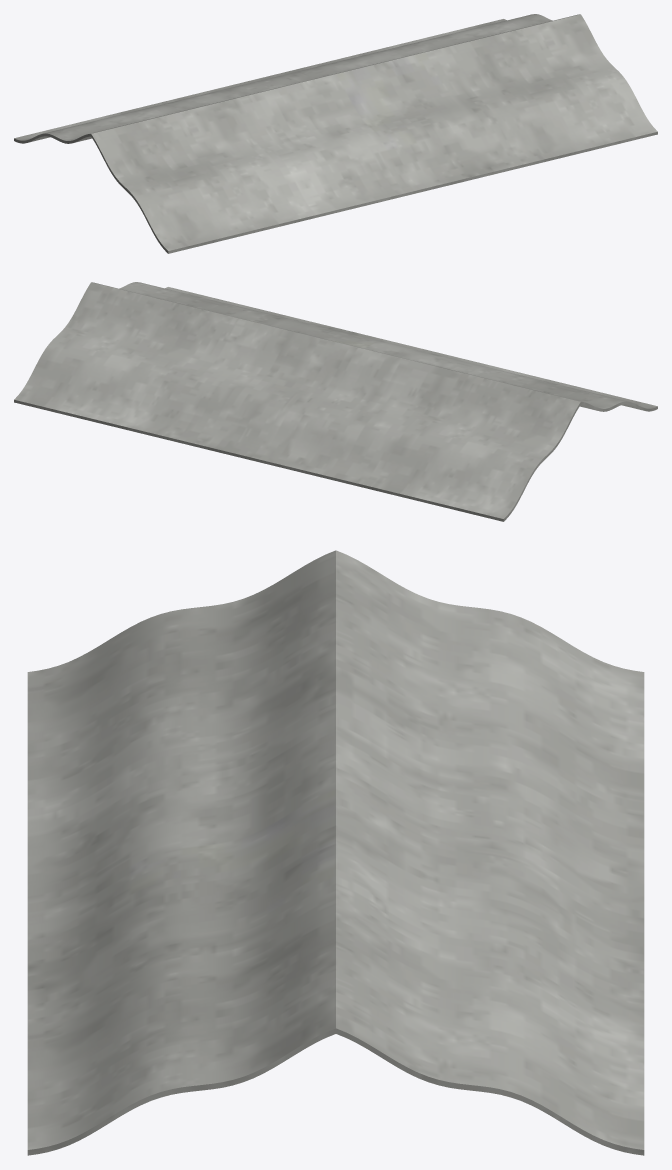
Rendered from COB-CUM-002_lod1.glb.
3 renders of one model, top to bottom at view 1: azimuth 30°, elevation 25°; view 2: azimuth 150°, elevation 25°; view 3: azimuth 270°, elevation 25°, orthographic. The views are drawn at different scales.
Visible parts, largest first — view 1: COB-CUM-002_peca; view 2: COB-CUM-002_peca; view 3: COB-CUM-002_peca.
Part boxes in pixels (bbox=[...]): COB-CUM-002_peca: bbox=[14, 14, 657, 253]; COB-CUM-002_peca: bbox=[14, 282, 657, 521]; COB-CUM-002_peca: bbox=[27, 550, 644, 1155].
Size of the model in its own units: 1.1 by 0.1367 by 0.6.
Materials: 1 (1 with a texture image).
